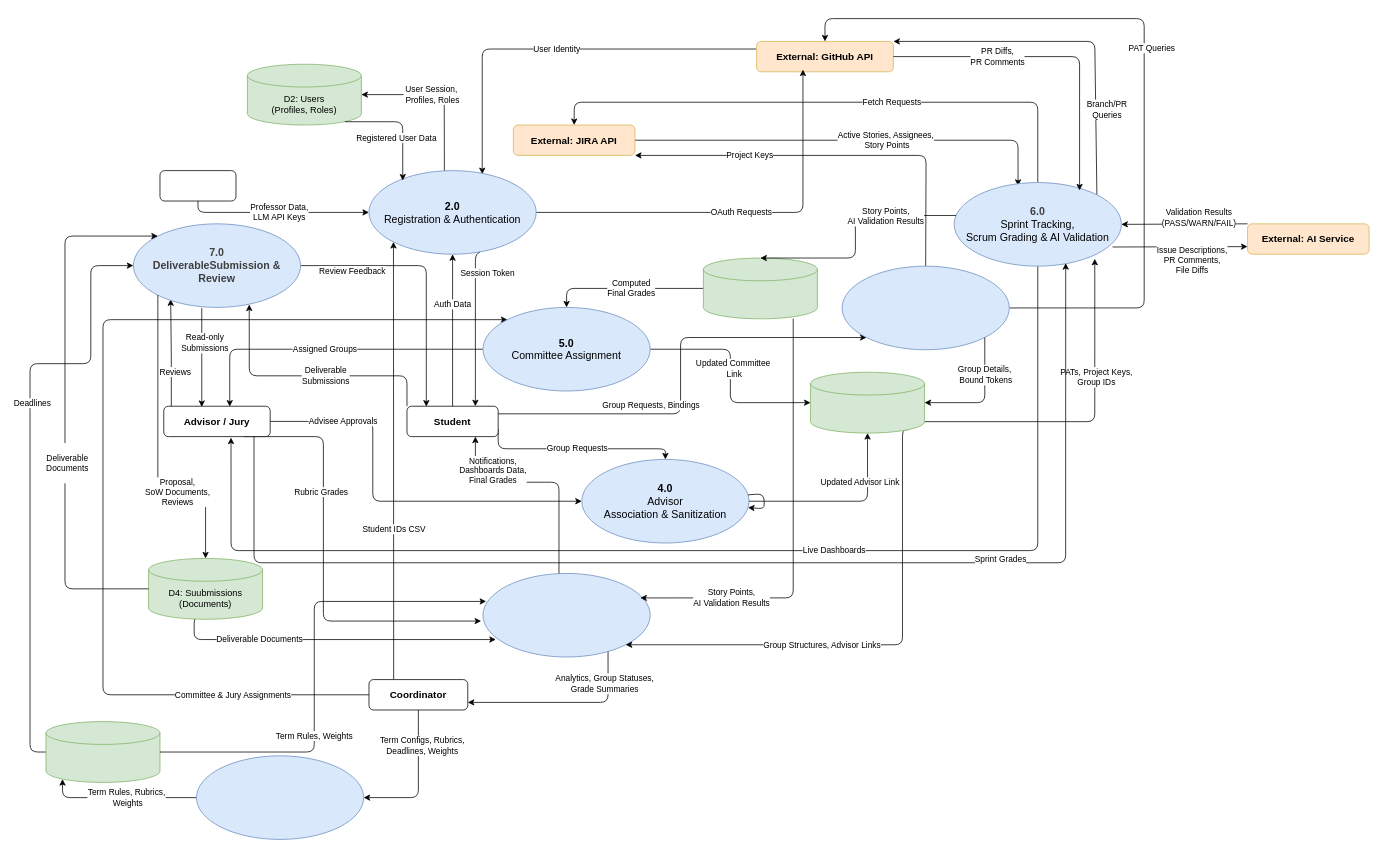
Image size: 1382x853. Some labels were removed from this diagram. Here are the shapes that lost their labels. From the top down, the centre of each, then its label:
At (197,185): "Admin".
At (760,288): "D5: Sprint & Grading Logs".
At (925,307): "3.0 Group Creation & Tool Integration".
At (867,402): "D3: Groups & Committees".
At (566,615): "8 .0 Grading & Final Calculation".
At (102,751): "D1: Term Config (Rubrics, Rules)".
At (280,797): "1.0 Coordinator Setup".
